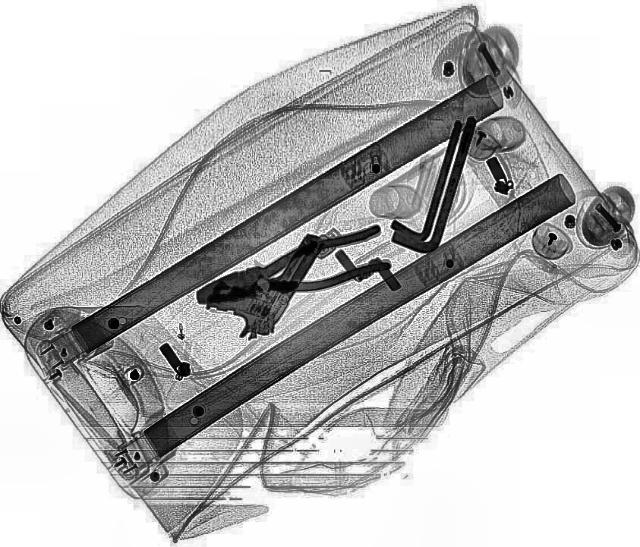Gun: (196, 215, 326, 346)
Pliers: (186, 223, 398, 317)
